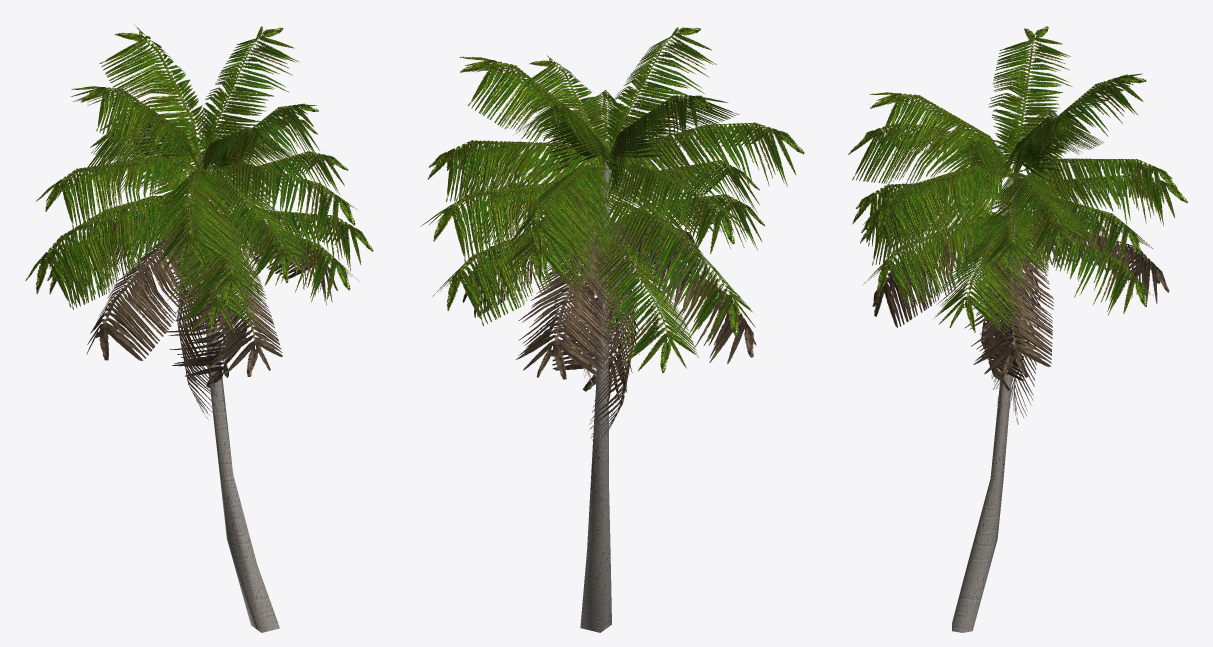
File: palm_b.glb
3 renders of one model, left to right at view 1: azimuth 30°, elevation 25°; view 2: azimuth 150°, elevation 25°; view 3: azimuth 270°, elevation 25°, orthographic. The views are drawn at different scales.
Visible parts, largest first — view 1: palm_b; view 2: palm_b; view 3: palm_b.
Boxes of the visible parts, x1,y1,x2,y2 form: palm_b: [25, 25, 373, 632]; palm_b: [420, 27, 804, 632]; palm_b: [848, 26, 1187, 632].
Size of the model in its own units: 6.04 by 10.15 by 6.12.
4 materials, 4 textured.
